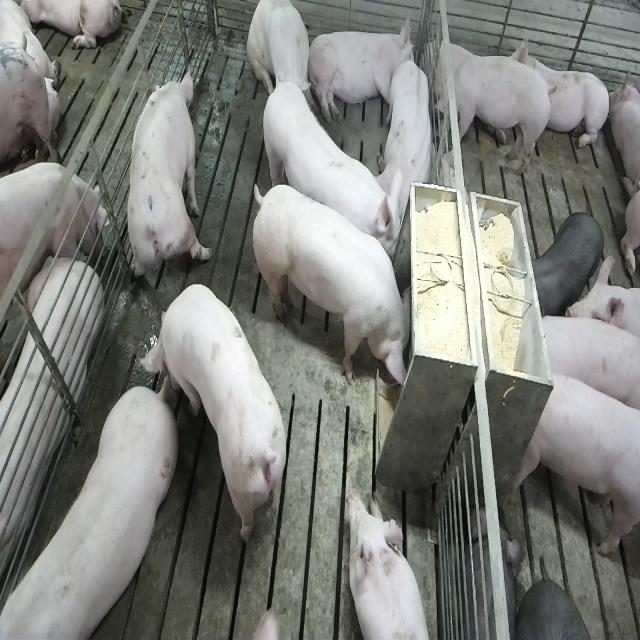Feeding: (255, 177, 420, 401)
Lateral_lying: (0, 238, 103, 590), (307, 18, 415, 128)
Sitting: (247, 1, 315, 116)
Standing: (0, 382, 174, 640), (144, 286, 292, 550), (506, 372, 638, 564), (258, 78, 392, 264), (125, 65, 209, 293), (426, 50, 554, 182), (0, 163, 107, 308), (534, 312, 638, 419), (528, 208, 603, 317)
Sternal_lying: (348, 488, 432, 640), (513, 32, 609, 153)
